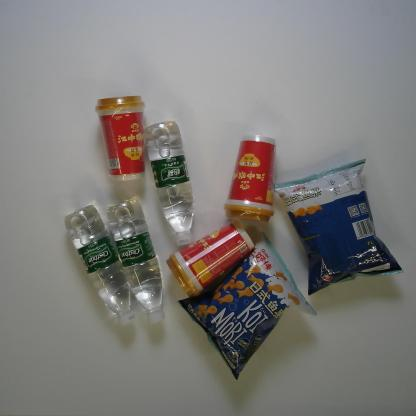Drink: (64, 204, 136, 326), (107, 198, 165, 328), (144, 120, 196, 248)
Instant Drink: (164, 220, 258, 300), (223, 134, 277, 224), (94, 94, 148, 182)
Puffed Food: (175, 231, 318, 381), (273, 158, 405, 296)
